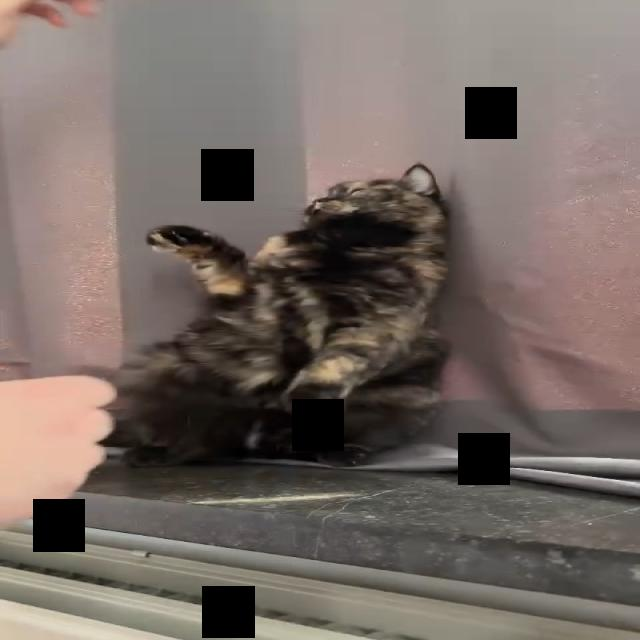authorized: (77, 161, 452, 468)
